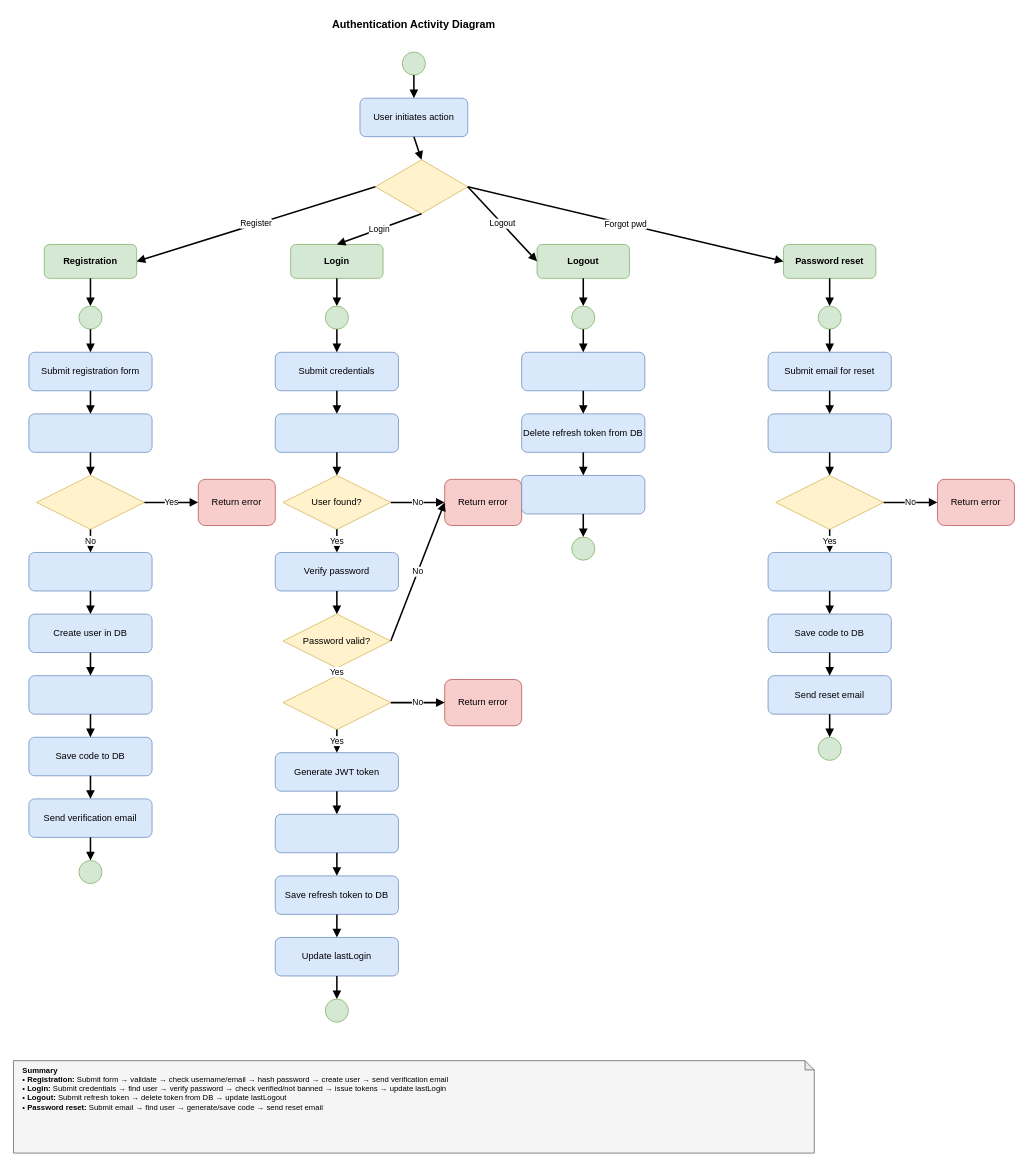
Some shapes in this 1028 by 1167 pixel diagram are drawn without their labels. Here are the shapes that lost their labels. From the top down, the centre of each, then its label:
At pixel 421 186: "Action type?".
At pixel 583 371: "Submit logout (refresh token)".
At pixel 90 432: "Validate input".
At pixel 336 432: "Find user by username/email".
At pixel 829 432: "Find user by email".
At pixel 90 502: "Username/email exists?".
At pixel 583 494: "Update lastLogout".
At pixel 829 502: "User exists?".
At pixel 90 571: "Hash password".
At pixel 829 571: "Generate reset code".
At pixel 90 694: "Generate verification code".
At pixel 336 702: "Verified & not banned?".
At pixel 336 833: "Generate refresh token".
